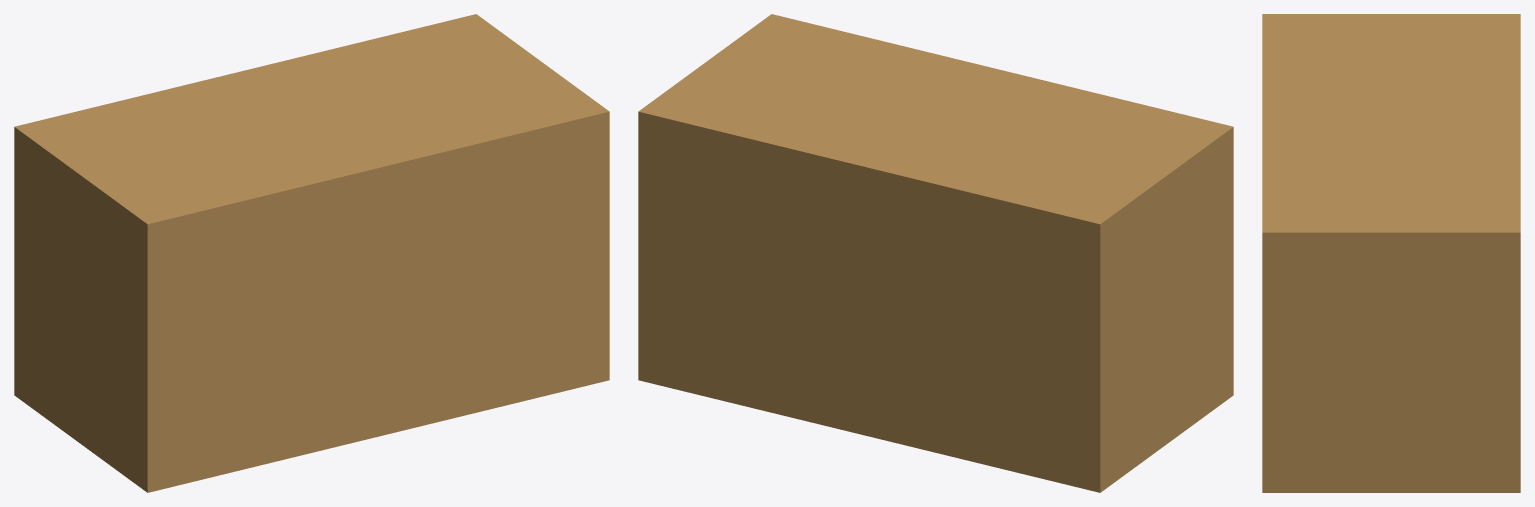
3 views of the same model, side by side, from view 1: azimuth 30°, elevation 25°; view 2: azimuth 150°, elevation 25°; view 3: azimuth 270°, elevation 25° (orthographic). The views are drawn at different scales.
Visible parts, largest first — view 1: GAP-23-R-king_stud-p3; view 2: GAP-23-R-king_stud-p3; view 3: GAP-23-R-king_stud-p3.
Boxes of the visible parts, box(x1,y1,x2,y2) form: GAP-23-R-king_stud-p3: box(14, 14, 609, 492); GAP-23-R-king_stud-p3: box(638, 14, 1233, 492); GAP-23-R-king_stud-p3: box(1262, 14, 1520, 492).
Bounding box in the file's own units: 0.09 × 0.05 × 0.045.
